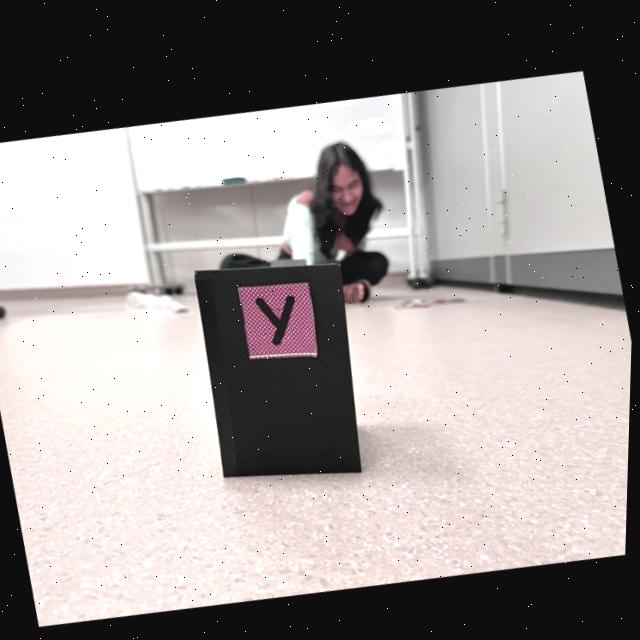Y: (257, 290, 296, 338)
